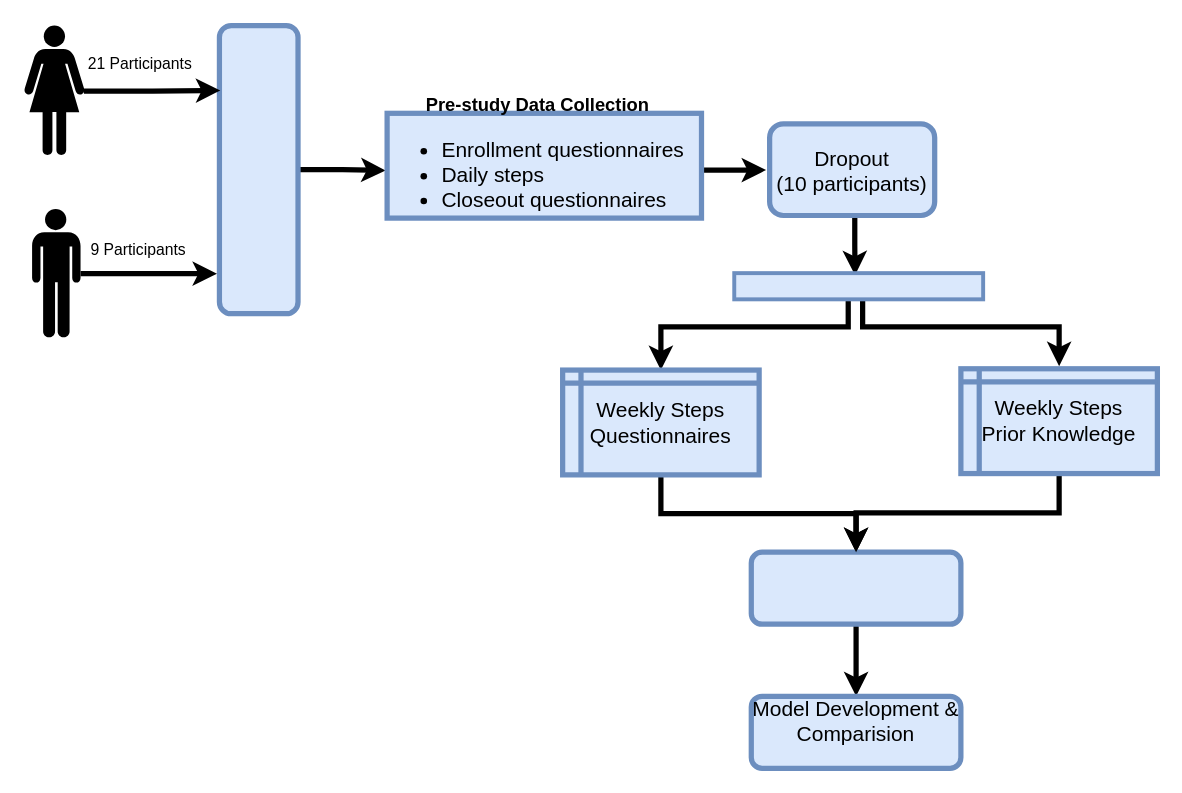
The diagram is 1182 pixels wide and 793 high, and some of its shapes have lost their labels. Each missing label, with the centre of its shape:
"Enrollment (30 participants)" goes at (x=258, y=169).
"Features extraction & Selection" goes at (x=855, y=587).
"Post-Study Data Collection" goes at (x=858, y=286).
